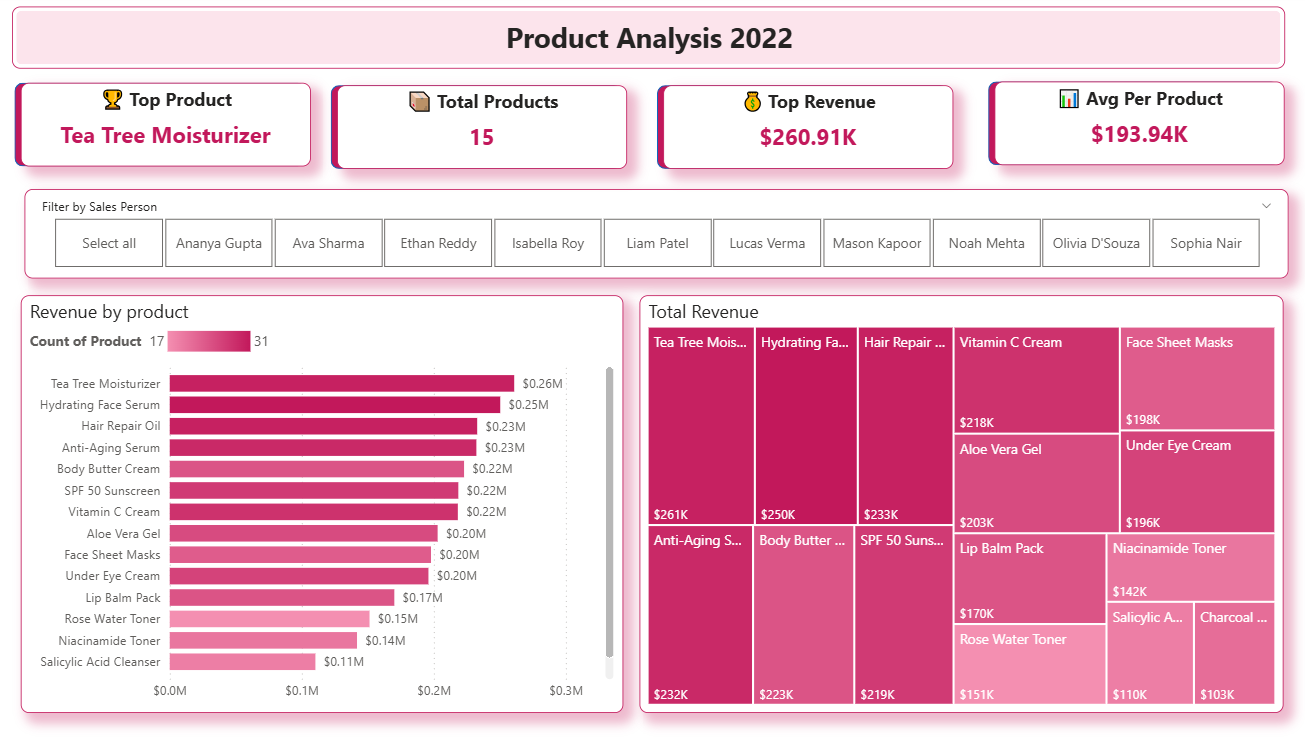

What the dashboard file says about the page in this screenshot:
{"tool":"powerbi","page":{"name":"Product Analysis 2022","canvas":[1280,720],"ordinal":2},"visuals":[{"type":"shape","box":[26.7,86,281,80.7],"z":0},{"type":"shape","box":[23.7,12.5,1228.5,59.8],"z":1000},{"type":"textbox","box":[439.7,18.1,400.7,45.9],"z":2000},{"type":"card","title":"🏆 Top Product","fields":{"Values":["cosmetics_sales_data.Top Product"]},"box":[32.3,86,279.7,80.7],"z":3000},{"type":"shape","box":[332.1,87.7,281,80.7],"z":4000},{"type":"card","title":"📦 Total Products","fields":{"Values":["cosmetics_sales_data.Total Products"]},"box":[337.7,87.7,279.7,80.7],"z":5000},{"type":"shape","box":[647,88,281,80.7],"z":6000},{"type":"card","title":"💰 Top Revenue","fields":{"Values":["cosmetics_sales_data.Top Product Revenue"]},"box":[652.5,88,279.7,80.7],"z":7000},{"type":"shape","box":[967,84.9,281,80.7],"z":8000},{"type":"card","title":"📊 Avg Per Product","fields":{"Values":["cosmetics_sales_data.Avg Revenue per Product"]},"box":[972.9,84.9,279.7,80.7],"z":9000},{"type":"slicer","fields":{"Values":["cosmetics_sales_data.Sales Person"]},"box":[36.2,187.8,1220.2,86.3],"z":10000},{"type":"clusteredBarChart","title":"Revenue by product","fields":{"Category":["cosmetics_sales_data.Product"],"Y":["cosmetics_sales_data.Total Revenue"]},"box":[32,290.8,581.6,403.5],"z":11000},{"type":"treemap","title":"Total Revenue ","fields":{"Values":["cosmetics_sales_data.Total Revenue"],"Group":["cosmetics_sales_data.Product"]},"box":[630.3,290.8,621.9,403.5],"z":12000}]}

Visuals, with their boxes in screenshot pixels (x1, y1, x2, y2), scaled from the page's 1280x720 canvas onto the 1305x737 screenshot:
shape: [left=27, top=88, right=314, bottom=171]
shape: [left=24, top=13, right=1277, bottom=74]
textbox: [left=448, top=19, right=857, bottom=66]
"🏆 Top Product" card: [left=33, top=88, right=318, bottom=171]
shape: [left=339, top=90, right=625, bottom=172]
"📦 Total Products" card: [left=344, top=90, right=629, bottom=172]
shape: [left=660, top=90, right=946, bottom=173]
"💰 Top Revenue" card: [left=665, top=90, right=950, bottom=173]
shape: [left=986, top=87, right=1272, bottom=170]
"📊 Avg Per Product" card: [left=992, top=87, right=1277, bottom=170]
slicer - cosmetics_sales_data.Sales Person: [left=37, top=192, right=1281, bottom=281]
"Revenue by product" clusteredBarChart: [left=33, top=298, right=626, bottom=711]
"Total Revenue " treemap: [left=643, top=298, right=1277, bottom=711]
